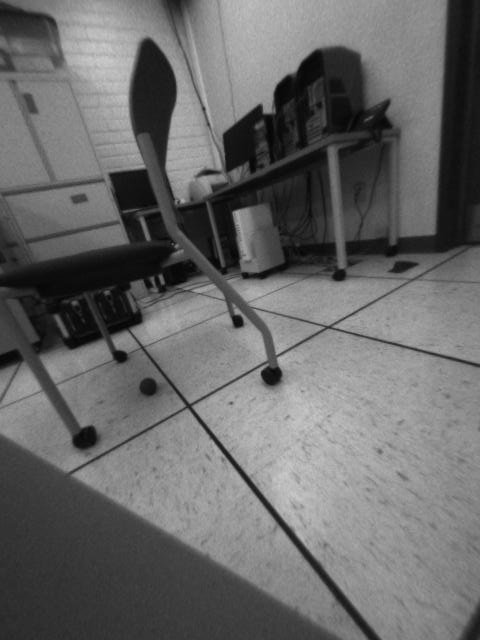dogtoy: (132, 371, 164, 401)
